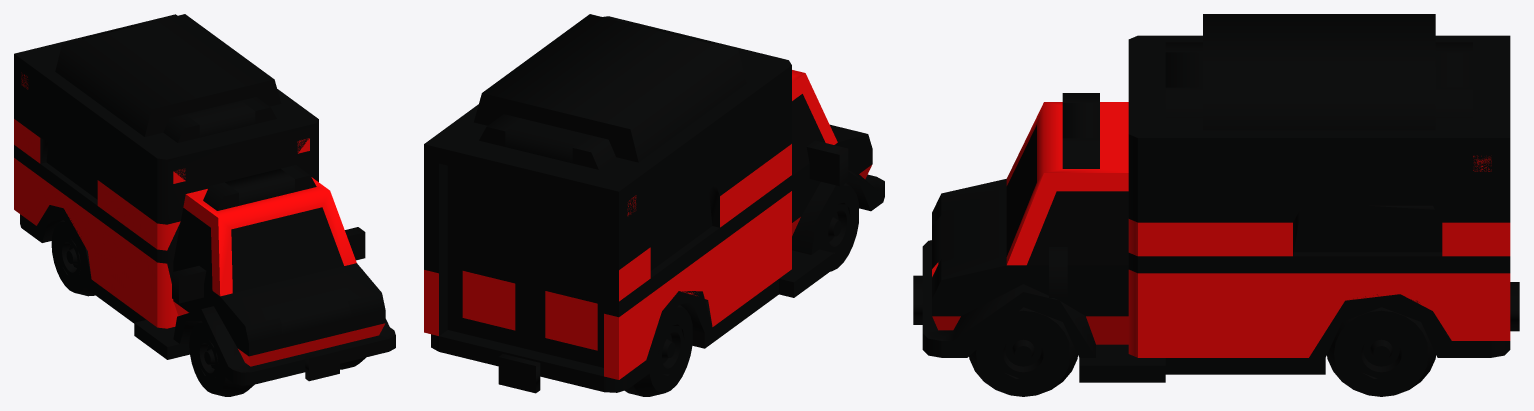
The model's file is ambulance.glb.
3 renders of one model, left to right at view 1: azimuth 30°, elevation 25°; view 2: azimuth 150°, elevation 25°; view 3: azimuth 270°, elevation 25°, orthographic. The views are drawn at different scales.
Parts seen in each view (by area): view 1: body, wheel-front-right, wheel-back-right; view 2: body, door-left, door-right, wheel-back-right, wheel-front-right; view 3: body, wheel-back-left, wheel-front-left.
Part boxes in pixels (x1=…): body: x1=14, y1=14, x2=395, y2=385; wheel-front-right: x1=189, y1=321, x2=254, y2=396; wheel-back-right: x1=51, y1=220, x2=95, y2=296; body: x1=424, y1=14, x2=884, y2=393; door-left: x1=447, y1=165, x2=530, y2=349; door-right: x1=530, y1=186, x2=603, y2=367; wheel-back-right: x1=624, y1=305, x2=692, y2=396; wheel-front-right: x1=819, y1=183, x2=858, y2=271; body: x1=913, y1=14, x2=1519, y2=382; wheel-back-left: x1=1327, y1=307, x2=1435, y2=396; wheel-front-left: x1=969, y1=307, x2=1077, y2=396.
Bounding box in the file's own units: 1.5 × 1.8 × 3.25.
1 material, 1 textured.
